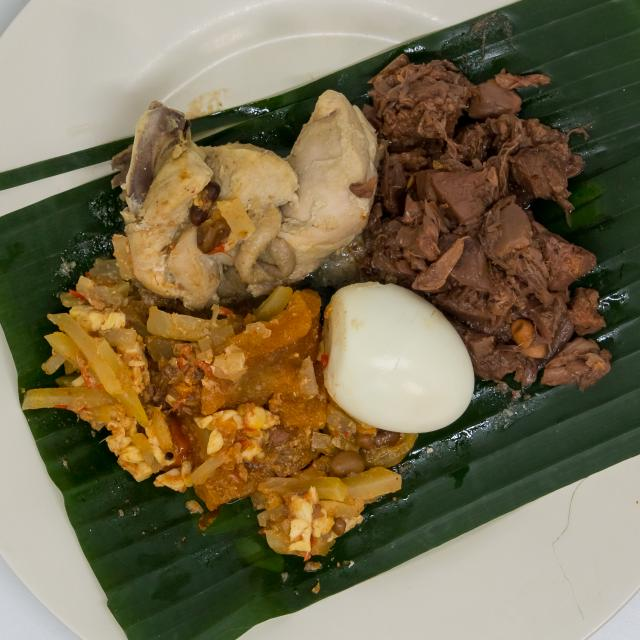Gudeg-Jogja: (12, 27, 622, 576)
